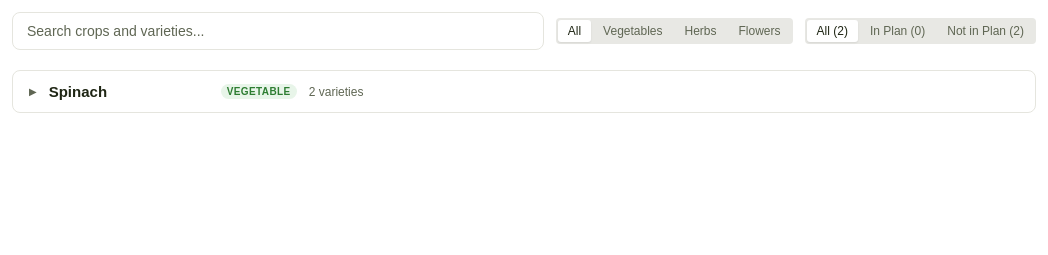
Test: LibraryView › rendering crop groups › shows cultivar details when crop row is expanded
Check: the text "Bloomsdale" is not shown
# Expand the Spinach row
What coordinates should you click on to do the following:
click the text "Spinach"
I would click on:
 (78, 92)
Its box is [49,83,107,100].
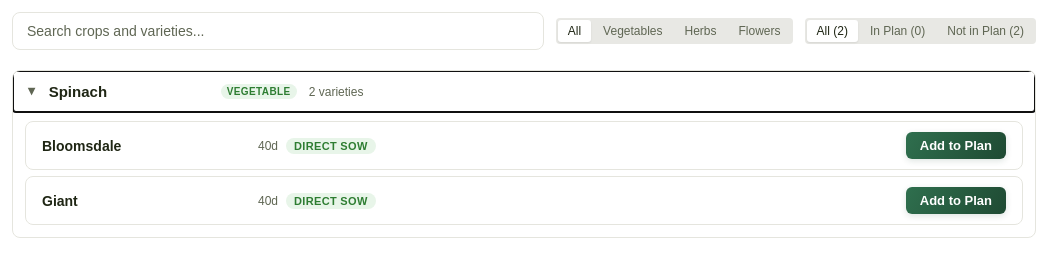
Check: the text "Bloomsdale" is shown, box [42,138,121,154]
Check: the text "Giant" is shown, box [42,192,78,208]
